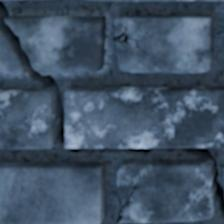brick: (65, 87, 223, 147), (0, 162, 104, 223), (118, 161, 214, 222), (114, 16, 211, 72), (0, 90, 56, 148)
broken_brick: (6, 15, 106, 74), (0, 34, 22, 75)
crack: (0, 0, 223, 221), (113, 26, 145, 54), (116, 183, 138, 223)
